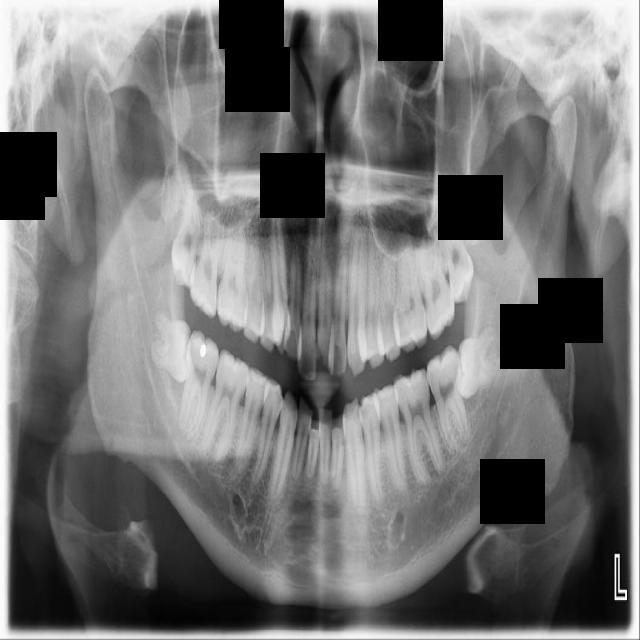3M ESPE Implant: (165, 182, 210, 290)
52: (177, 324, 236, 386)
73: (570, 544, 576, 554)
BioHorizons Implant: (415, 223, 459, 341)
BioLife Implant: (438, 196, 479, 305)
Biomet 3i Implant: (453, 324, 499, 401)
Blue Sky Bio Implant: (422, 343, 473, 454)
Caries: (185, 198, 228, 320)
Implant: (174, 328, 223, 445), (187, 356, 196, 365)
Keystone Dental Implant: (149, 308, 194, 384)
